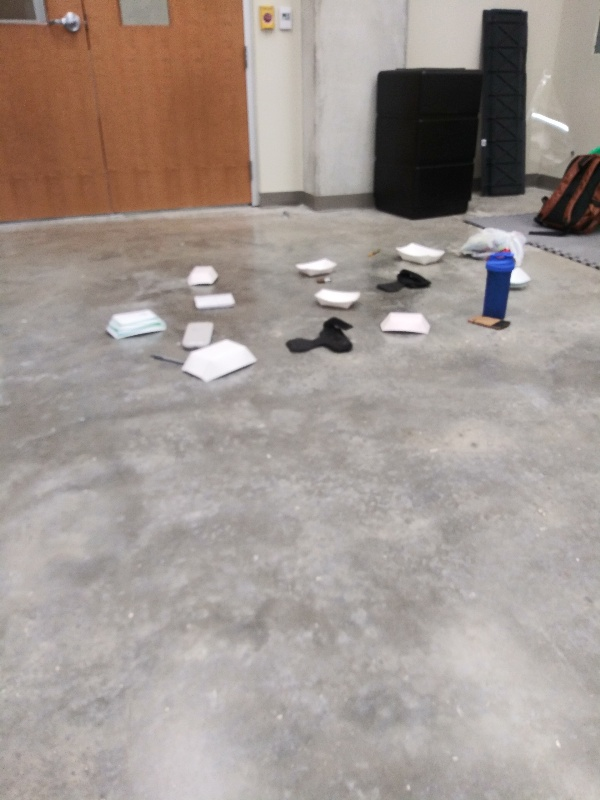plate: (177, 339, 262, 387), (104, 306, 169, 344), (375, 310, 434, 336), (392, 241, 448, 267), (313, 285, 364, 311), (292, 257, 340, 281), (181, 261, 223, 288), (507, 262, 533, 292)
